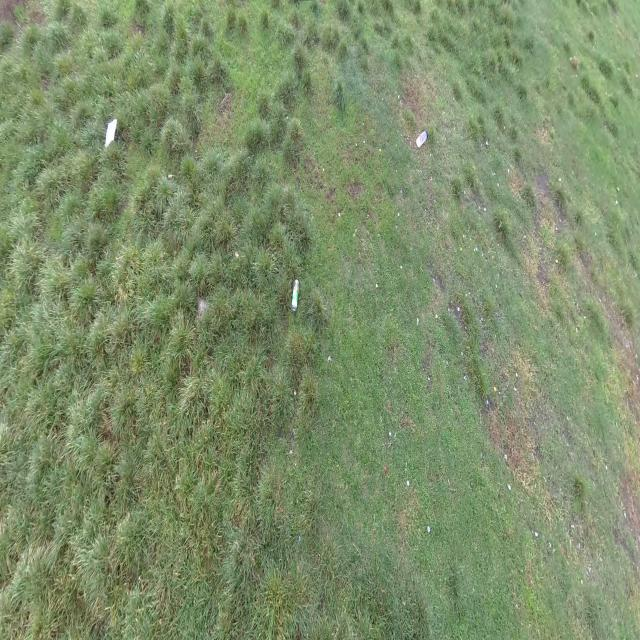rubbish: (105, 117, 117, 149), (415, 128, 430, 149), (291, 277, 299, 308)
